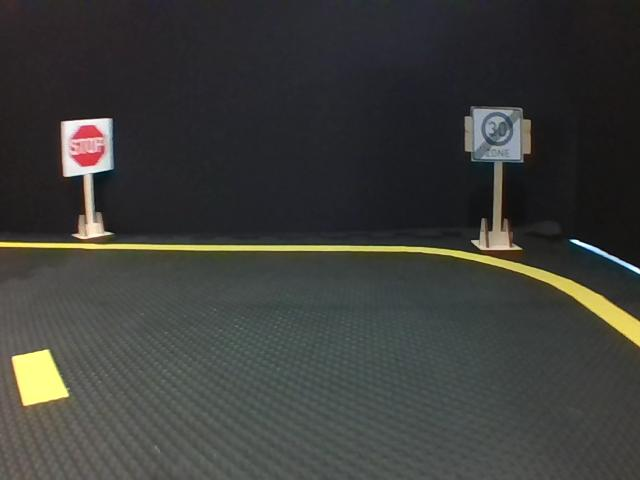no30: (472, 108, 523, 161)
stop: (60, 120, 114, 172)
